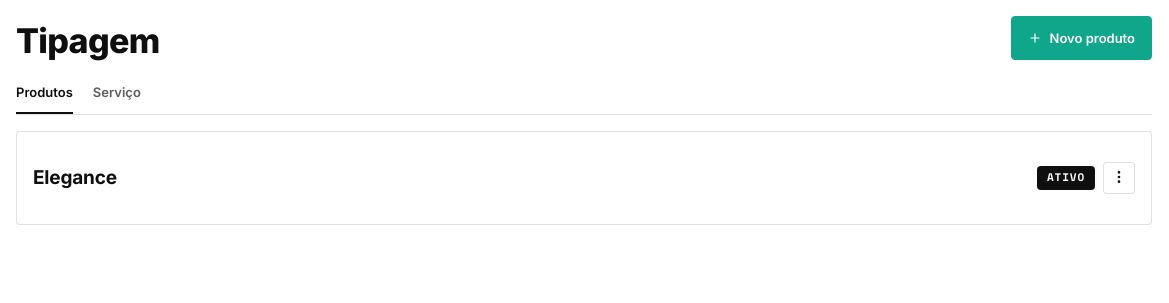
Test: Tipagem › troca para a aba Serviço e lista o catálogo
Click the button "Serviço" at (117, 93), box x1=93 y1=72 x2=141 y2=114
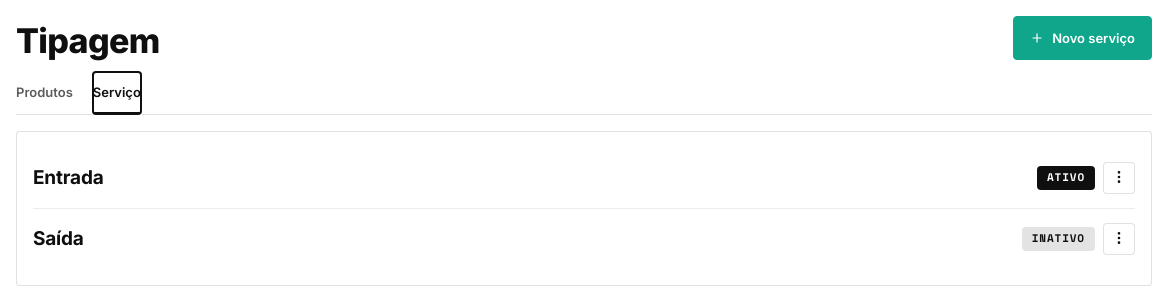
Expected: the button "Novo serviço" is shown, x1=1013 y1=16 x2=1152 y2=60
Expected: the text "Saída" is shown, x1=33 y1=227 x2=84 y2=250
Expected: the text "Inativo" is shown, x1=1022 y1=227 x2=1095 y2=251
